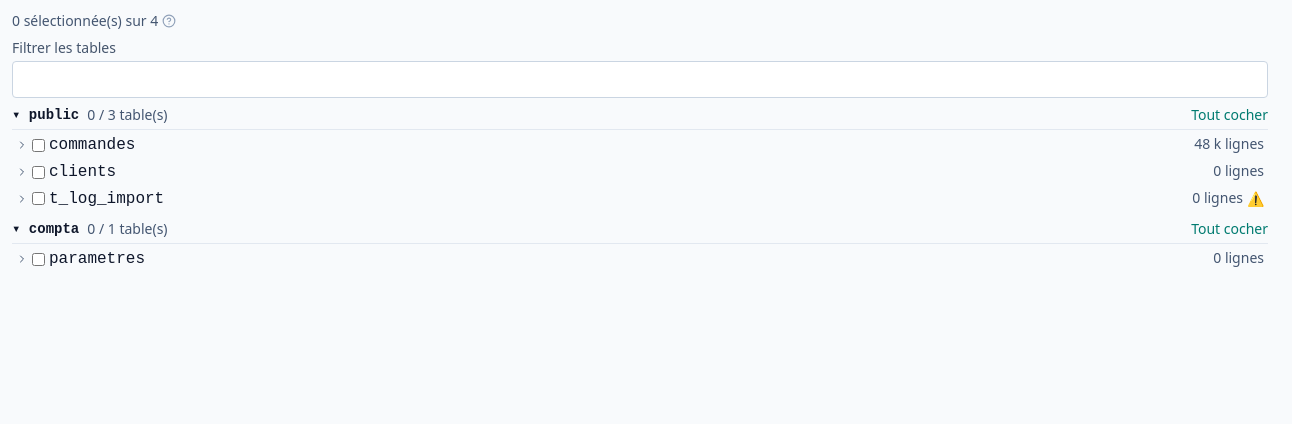
Test case: TableTree › avertit quand une référence sort de la sélection, et sait la rattraper
The width and height of the screenshot is (1292, 424).
Click the checkbox named "public.commandes": (38, 145) [32,139,45,152]
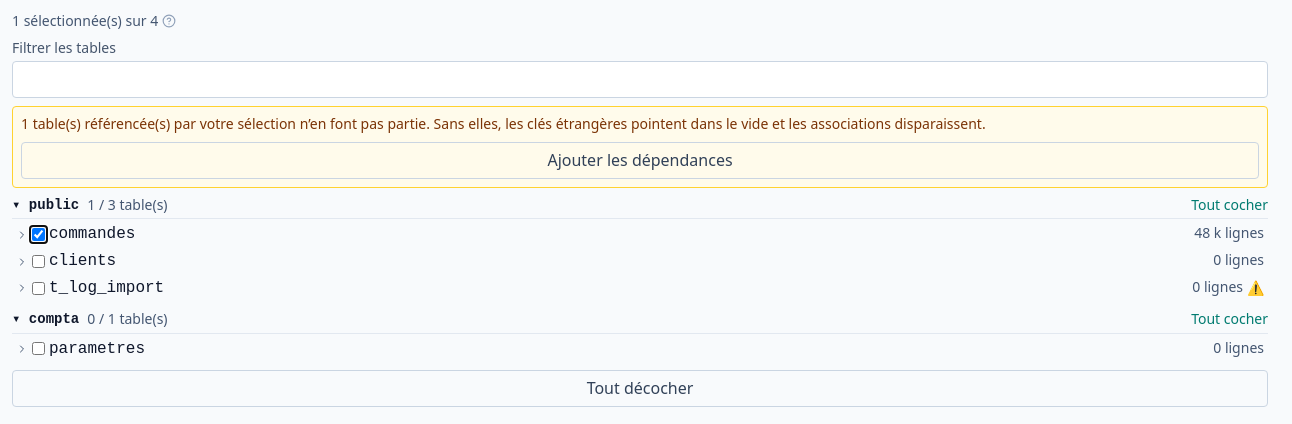
Now the text "n’en font pas partie" is shown, box [21,114,986,133]
Click the button "Ajouter les dépendances": (640, 160) [21,142,1259,179]
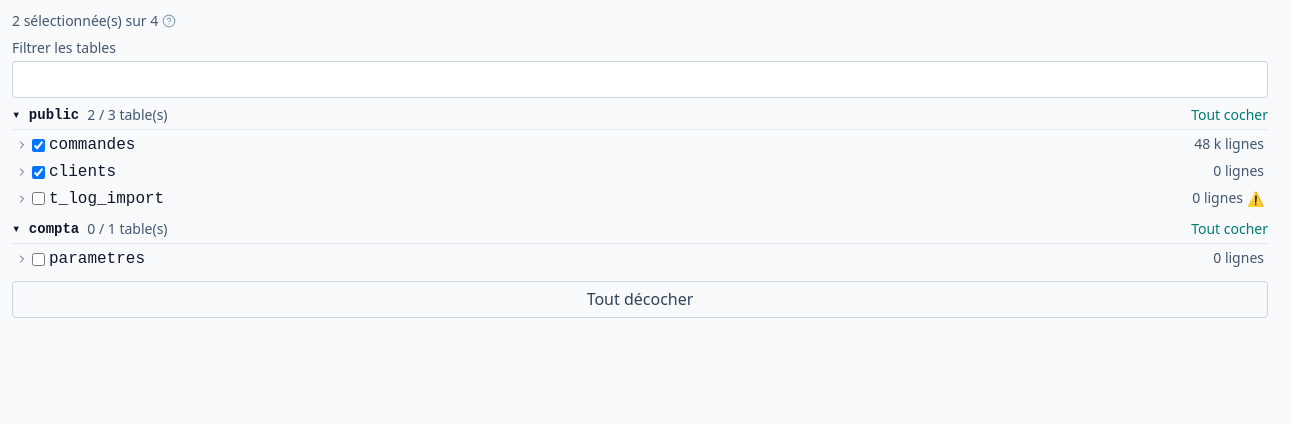
Now the text "n’en font pas partie" is gone
